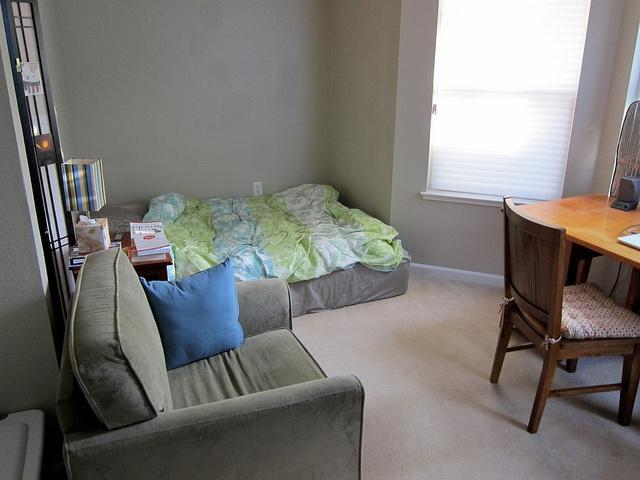Kursi: (488, 195, 639, 433)
Meja: (499, 188, 639, 276)
